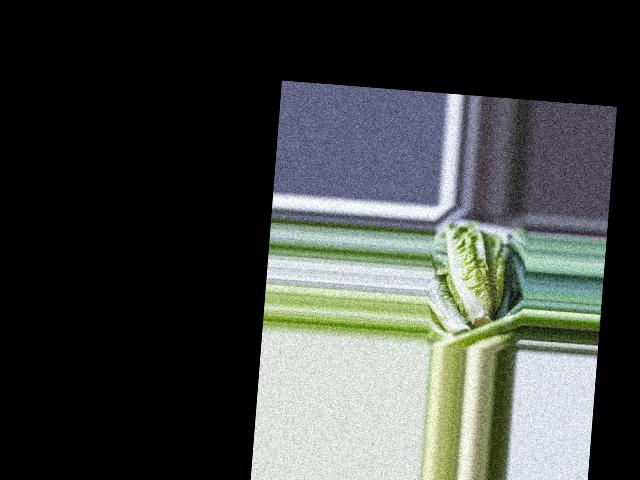lettuce: (423, 209, 520, 324)
